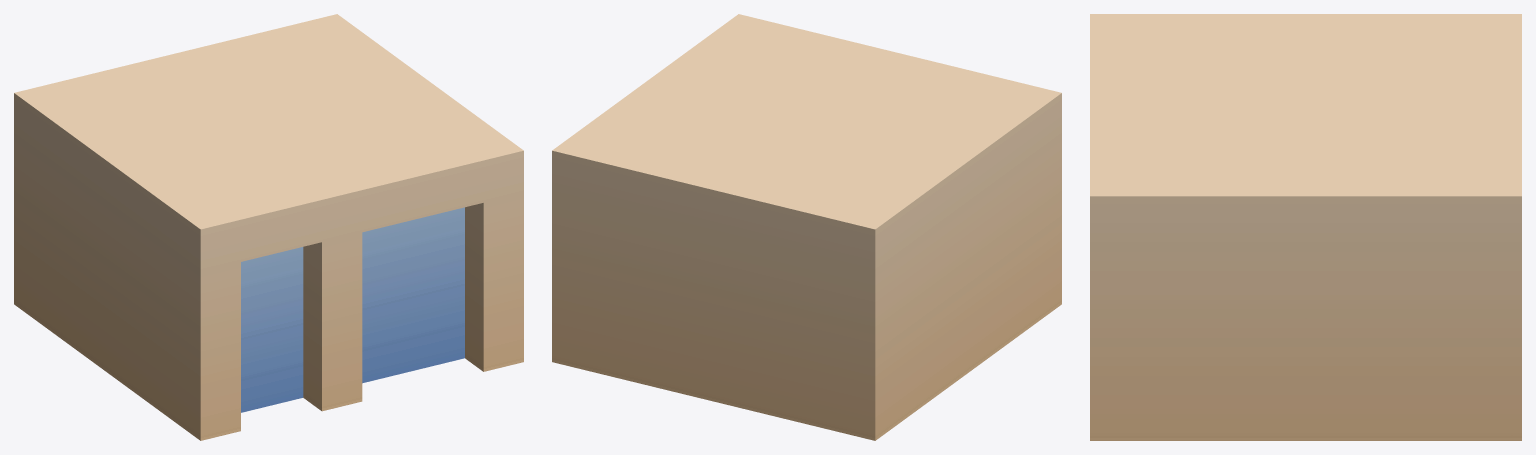
Rendered from building-door-window.glb.
3 views of the same model, side by side, from view 1: azimuth 30°, elevation 25°; view 2: azimuth 150°, elevation 25°; view 3: azimuth 270°, elevation 25° (orthographic). The views are drawn at different scales.
Visible parts, largest first — view 1: building-door-window; view 2: building-door-window; view 3: building-door-window.
Part boxes in pixels (bbox=[...]): building-door-window: bbox=[14, 14, 523, 440]; building-door-window: bbox=[552, 14, 1061, 440]; building-door-window: bbox=[1090, 14, 1521, 440].
Size of the model in its own units: 1 by 0.625 by 1.
Materials: 1 (1 with a texture image).
